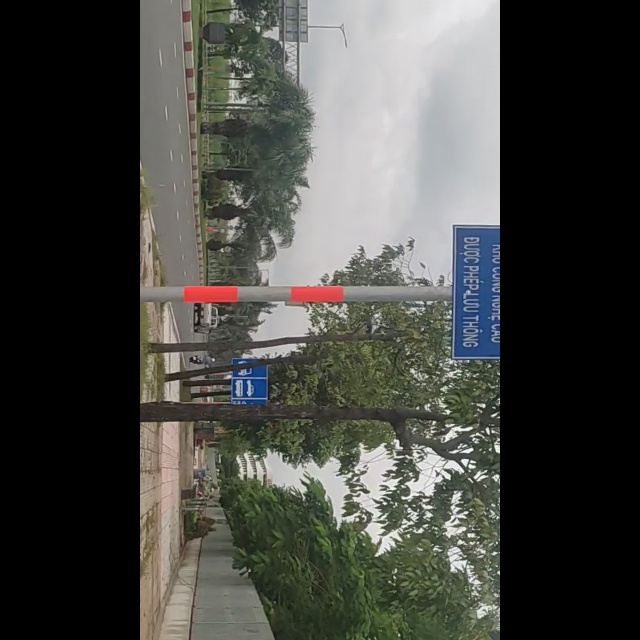bien_chi_dan: (162, 360, 229, 409)
